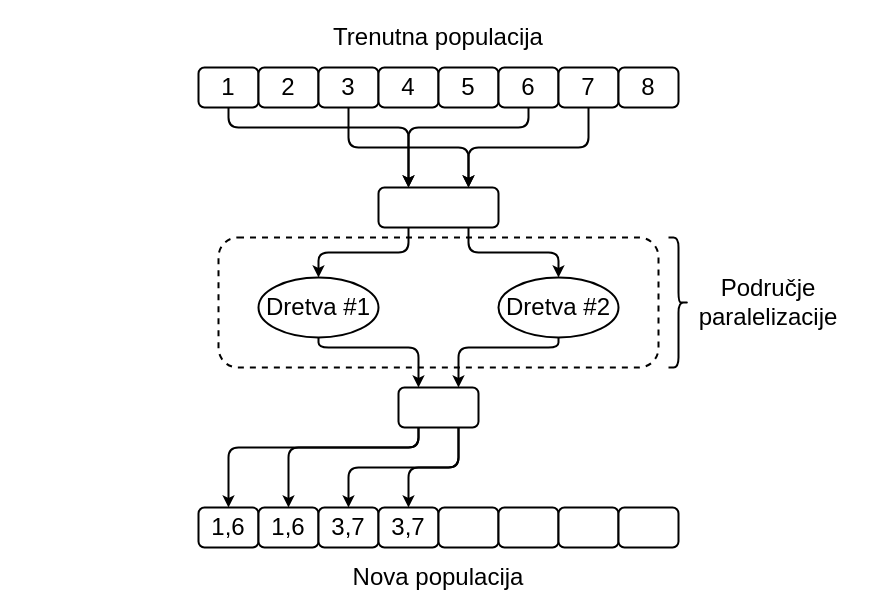
This 875x614 diagram has some shape labels left out. The shapes that lost their labels are listed below. From the top down, each one's centre as x and y in pixels, then its label:
At (438,207): "Queue".
At (438,407): "CAS".
